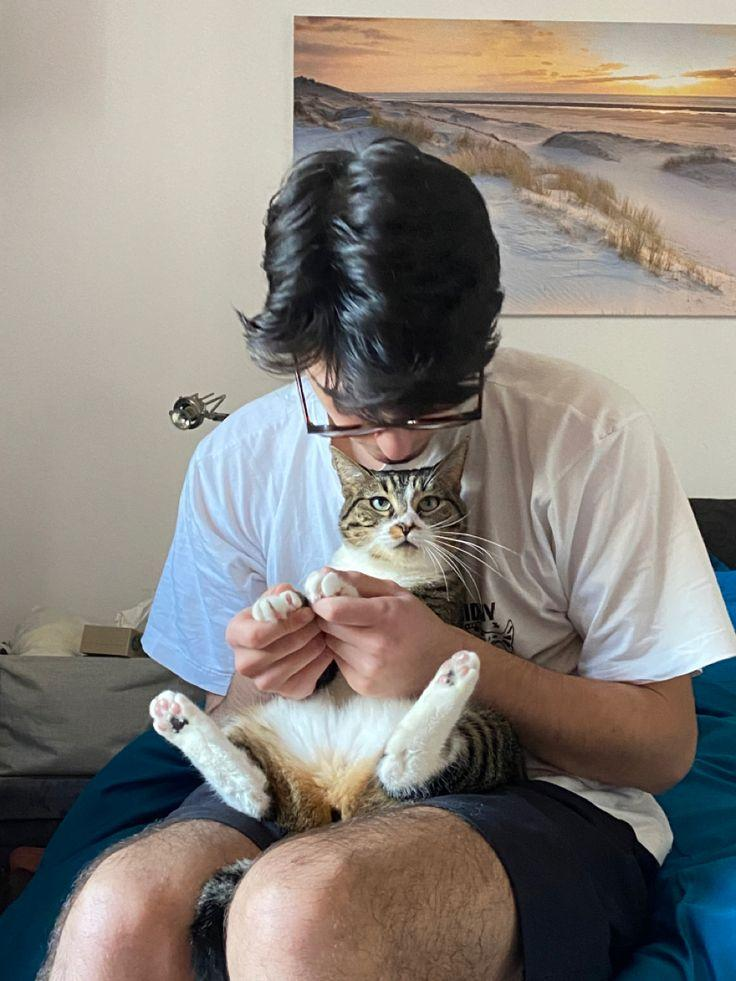kedo: (153, 446, 515, 814)
